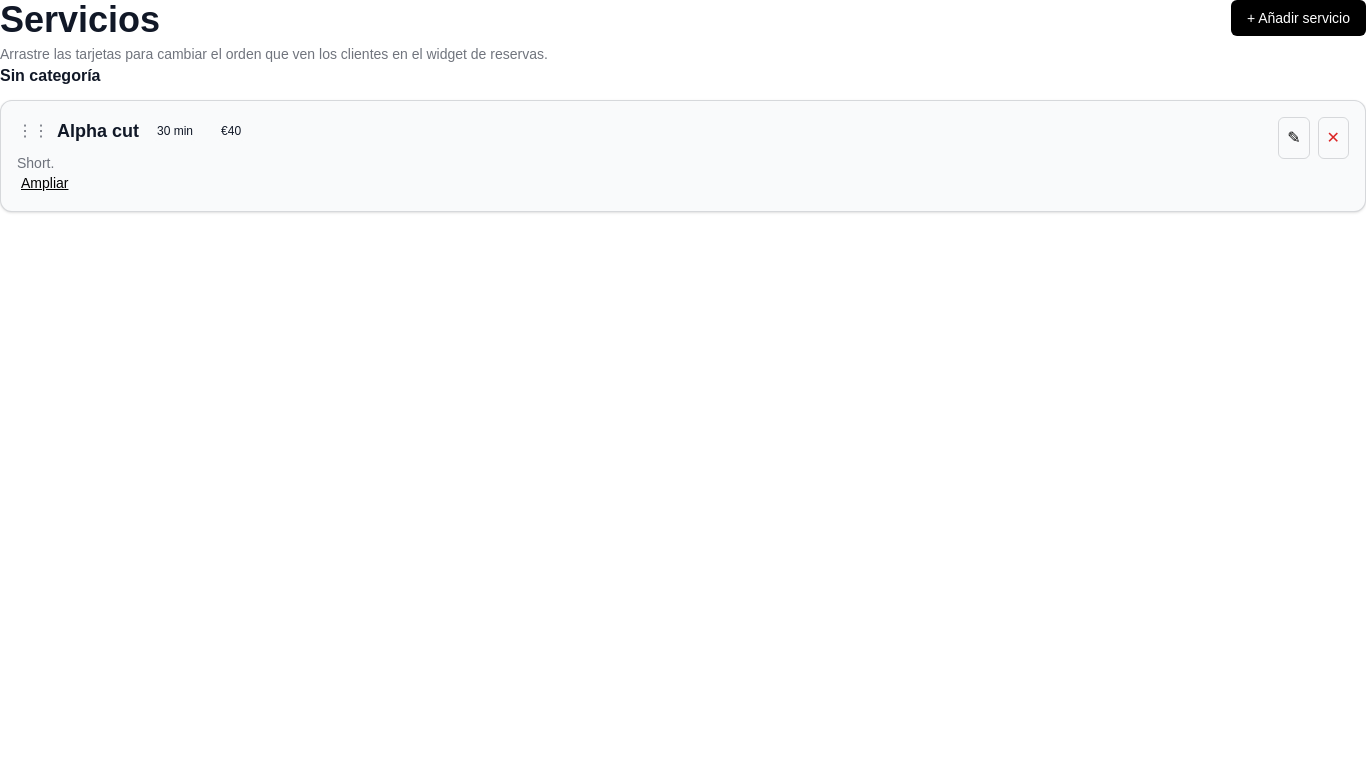
Scenario: AdminServicesPage › opens edit modal, saves changes, and PUTs the updated catalog
This screenshot has width=1366, height=768.
Check: the heading "Alpha cut" is shown, box [57, 117, 139, 145]
Click the button "✎": x=1294, y=138 [1278, 117, 1310, 159]
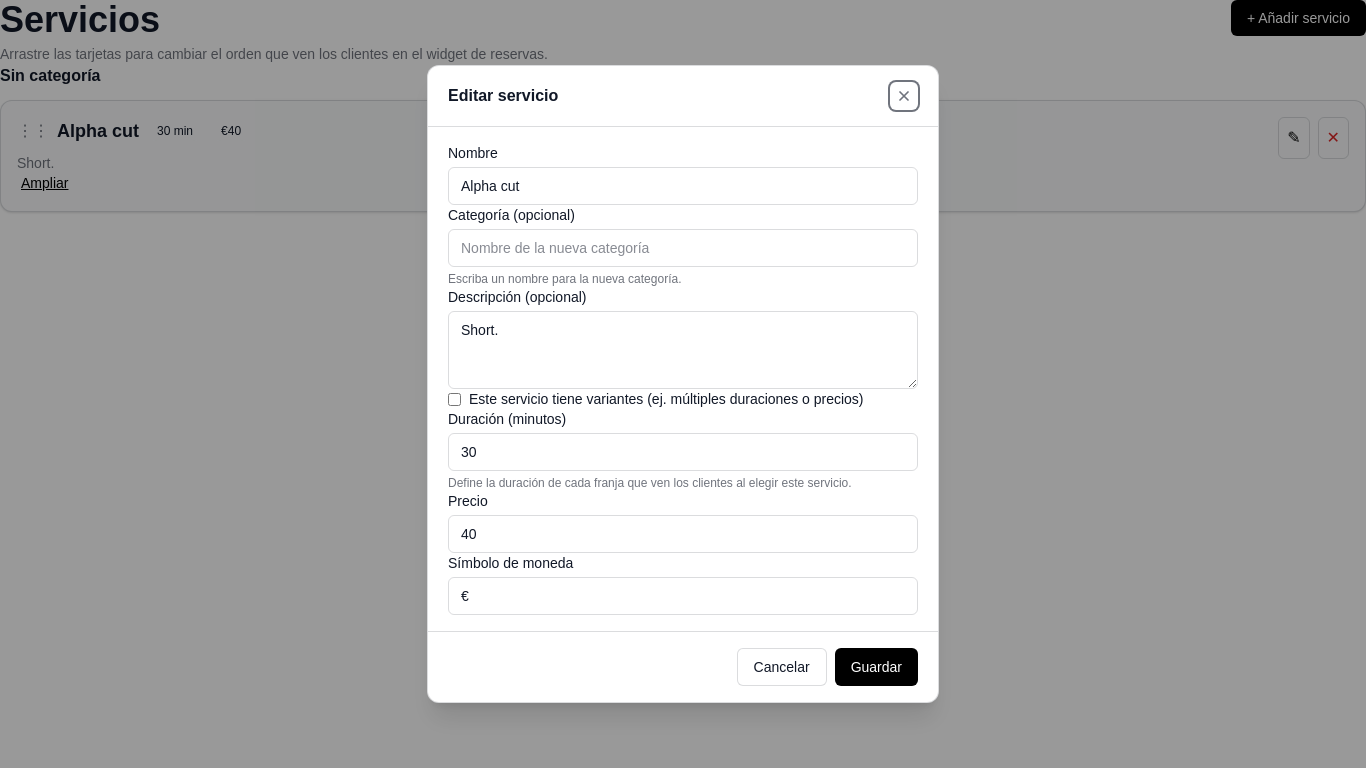
Check: the heading "Editar servicio" is shown, box [448, 84, 558, 108]
Replace the text in the field labelled "Nombre" with "Renamed": x=683, y=186 [448, 167, 918, 205]
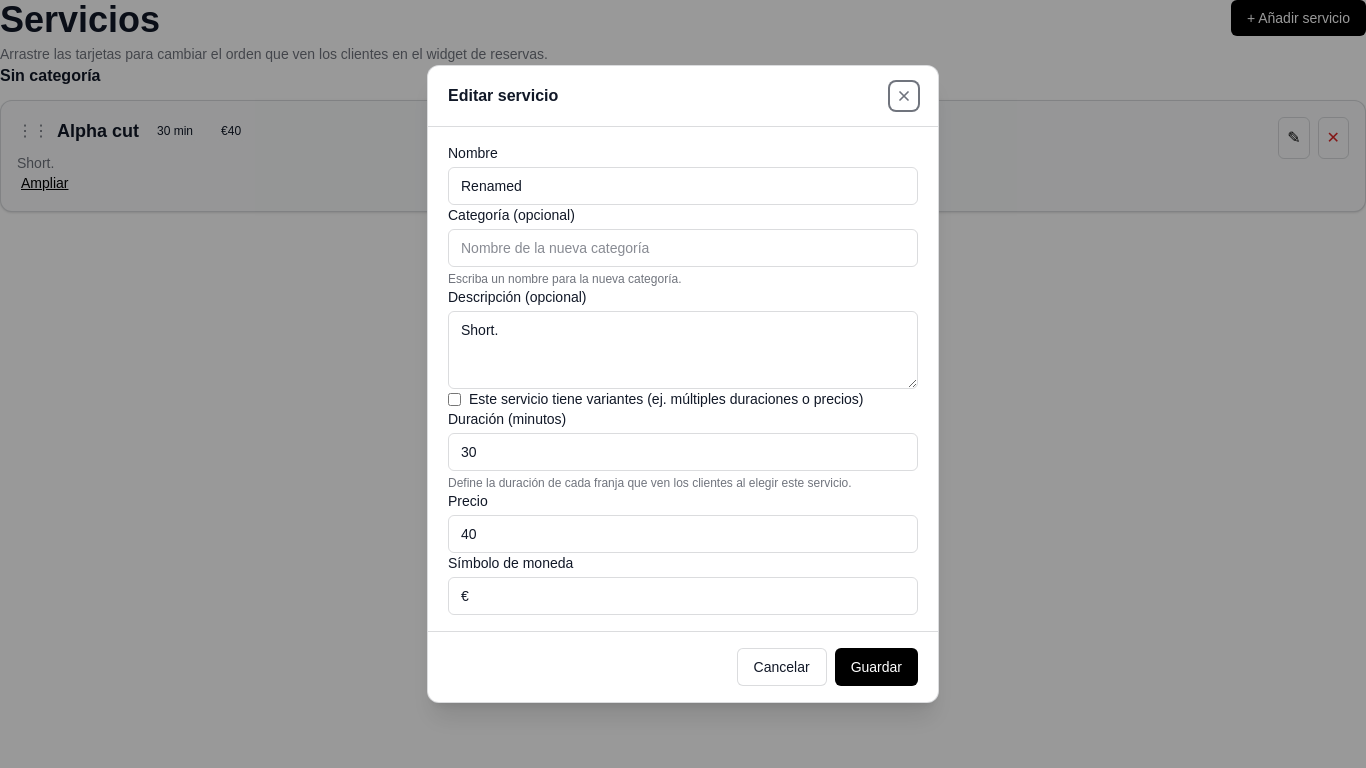
Click the button "Guardar": x=876, y=667 [835, 648, 918, 686]
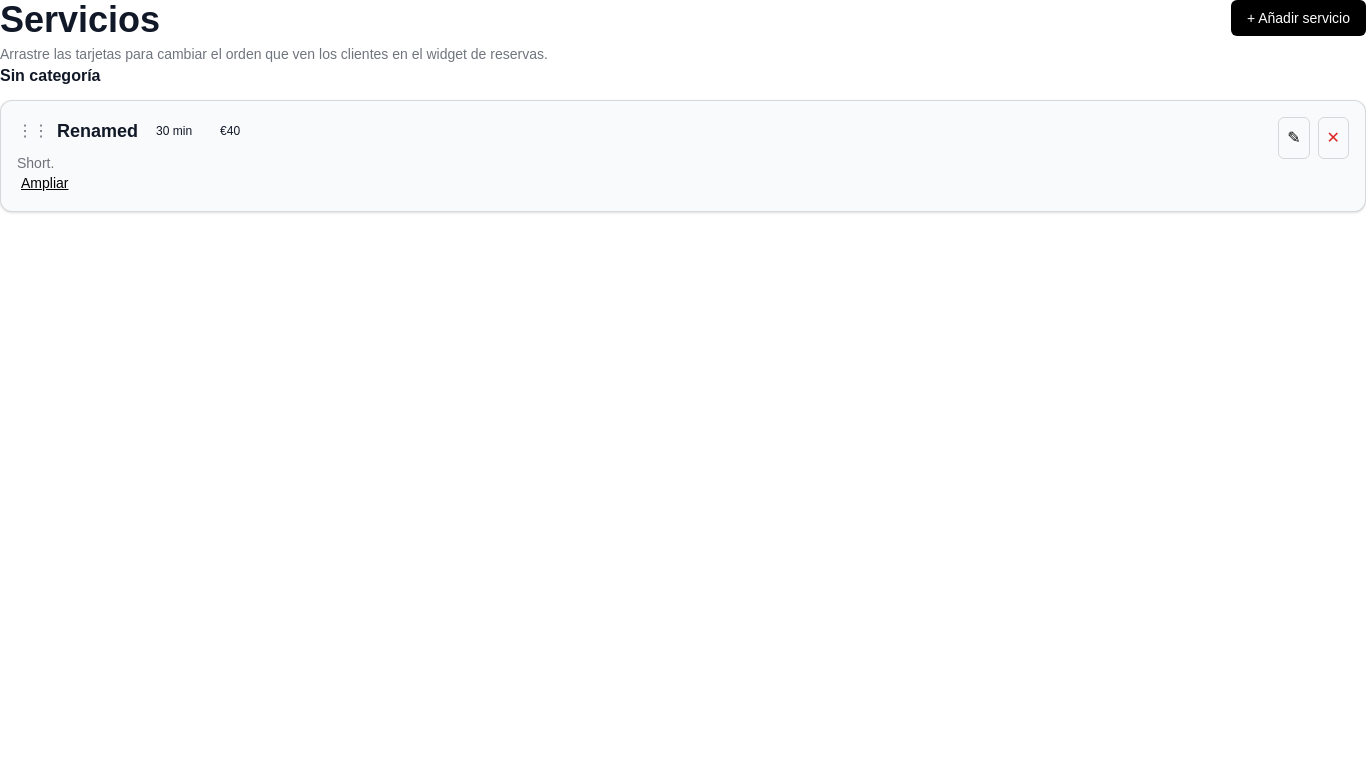
Check: the heading "Editar servicio" is gone
